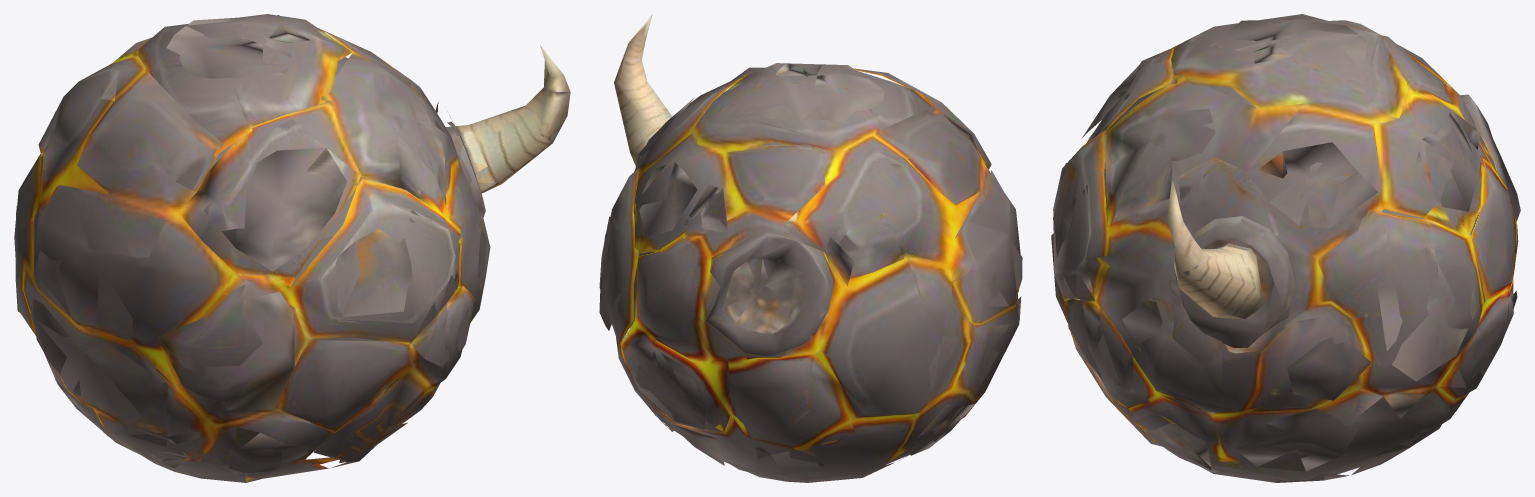
File: horned_warden_ball.glb
The picture shows the model from 3 angles, left to right: view 1: azimuth 30°, elevation 25°; view 2: azimuth 150°, elevation 25°; view 3: azimuth 270°, elevation 25°; orthographic projection. The views are drawn at different scales.
Bounding box in the file's own units: 1.89 × 1.61 × 1.64.
1 material, 1 textured.
